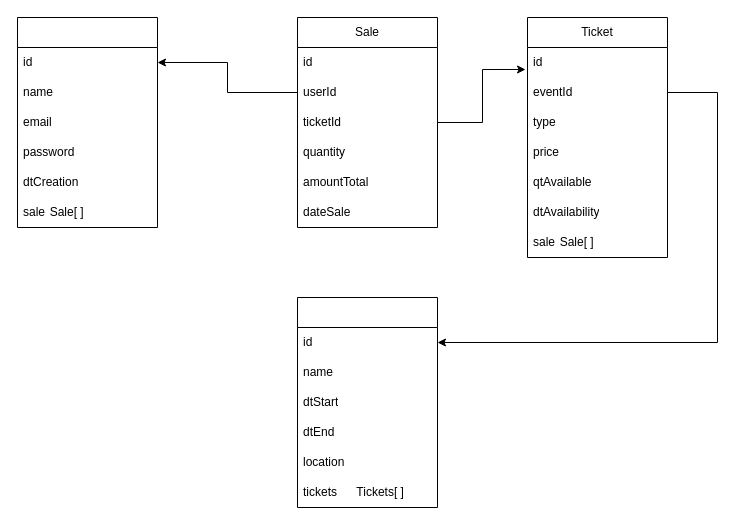
This 743x525 diagram has some shape labels left out. Here are the shapes that lost their labels. From the top down, the box of each, then its label:
(16, 16, 158, 228): User
(296, 296, 438, 508): Event
